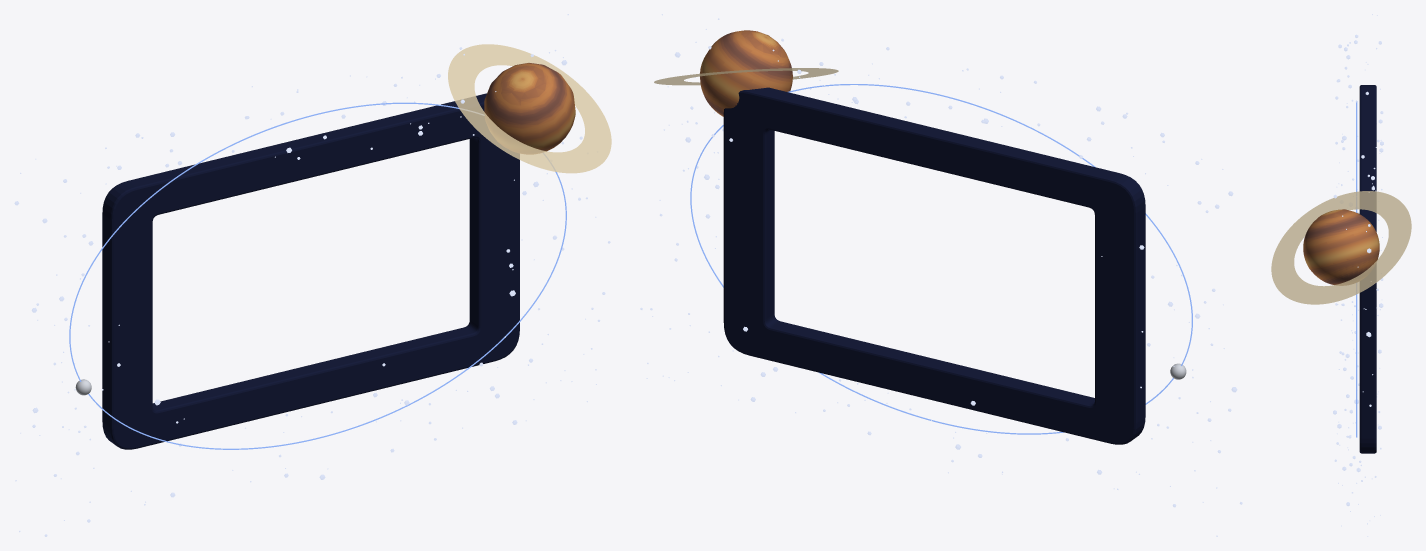
File: cosmos.glb
3 views of the same model, side by side, from view 1: azimuth 30°, elevation 25°; view 2: azimuth 150°, elevation 25°; view 3: azimuth 270°, elevation 25° (orthographic). The views are drawn at different scales.
Parts seen in each view (by area): view 1: frame, planet-ring, planet, orbit, stars; view 2: frame, planet, orbit, stars, planet-ring; view 3: planet-ring, frame, planet, stars, orbit.
Boxes of the visible parts, box(x1,y1,x2,y2) form: frame: box(102, 93, 519, 449); planet-ring: box(448, 44, 611, 173); planet: box(484, 63, 575, 153); orbit: box(69, 102, 566, 449); stars: box(14, 14, 610, 536); frame: box(723, 87, 1145, 444); planet: box(700, 30, 792, 116); orbit: box(690, 84, 1192, 434); stars: box(640, 14, 1242, 536); planet-ring: box(654, 68, 838, 85); planet-ring: box(1271, 191, 1411, 304); frame: box(1359, 85, 1376, 453); planet: box(1303, 209, 1379, 285); stars: box(1333, 14, 1383, 536); orbit: box(1356, 100, 1357, 437).
Bounding box in the file's own units: 2.9 × 1.88 × 0.7364.
Materials: 6 (1 with a texture image).
